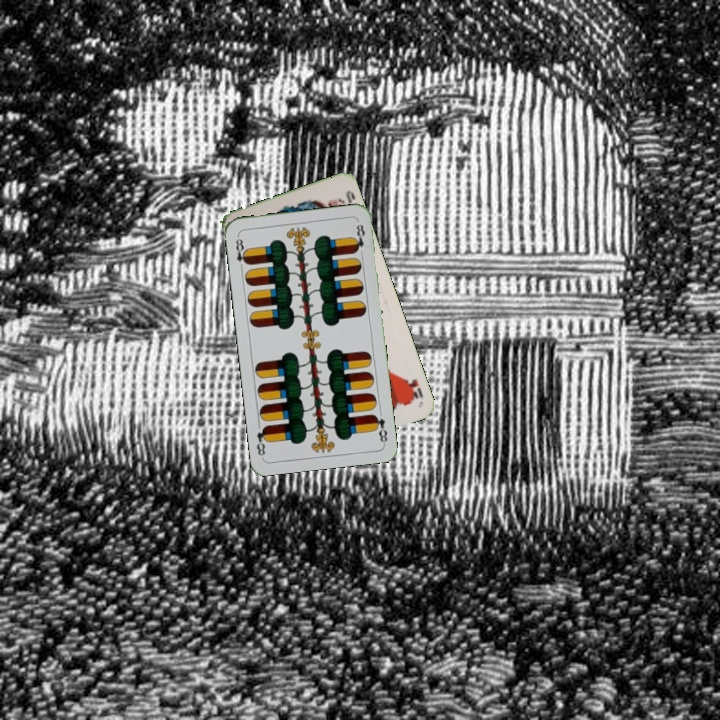E8: (231, 232, 251, 272), (369, 410, 390, 446)
HO: (401, 373, 426, 403)
